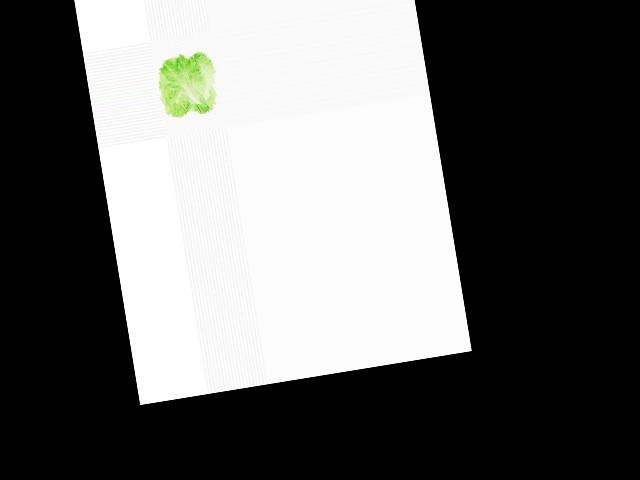lettuce: (151, 44, 224, 124)
